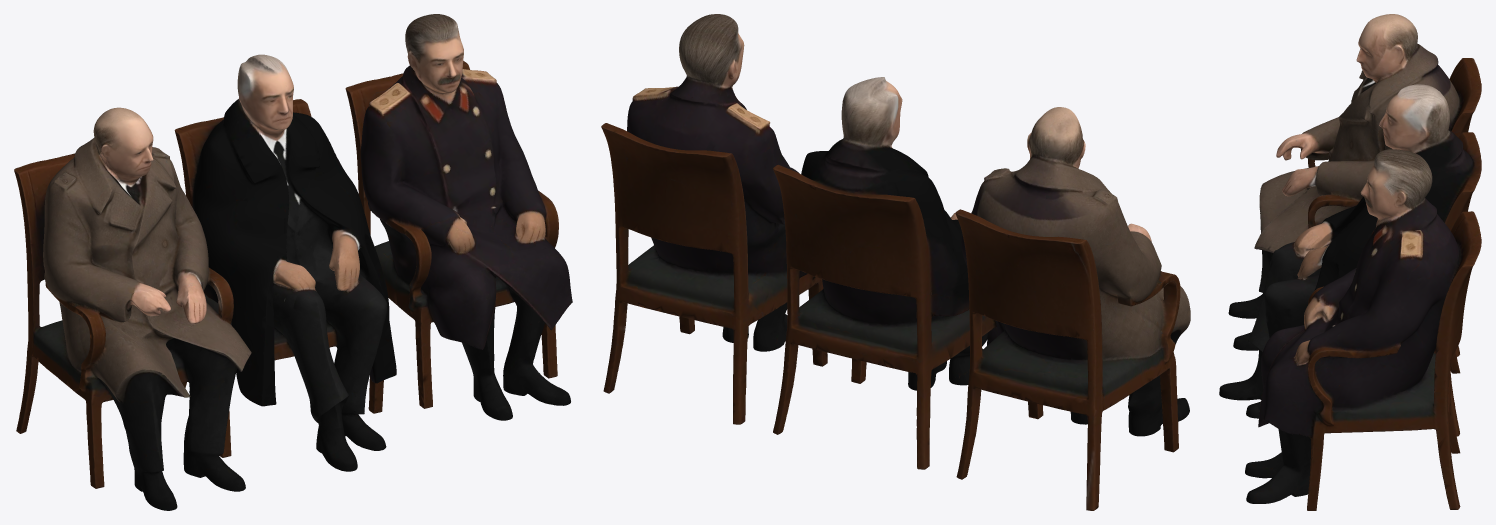
The model's file is 3ooong.glb.
3 views of the same model, side by side, from view 1: azimuth 30°, elevation 25°; view 2: azimuth 150°, elevation 25°; view 3: azimuth 270°, elevation 25° (orthographic). The views are drawn at different scales.
Bounding box in the file's own units: 1.9 × 1.31 × 0.9595.
1 material, 1 textured.
